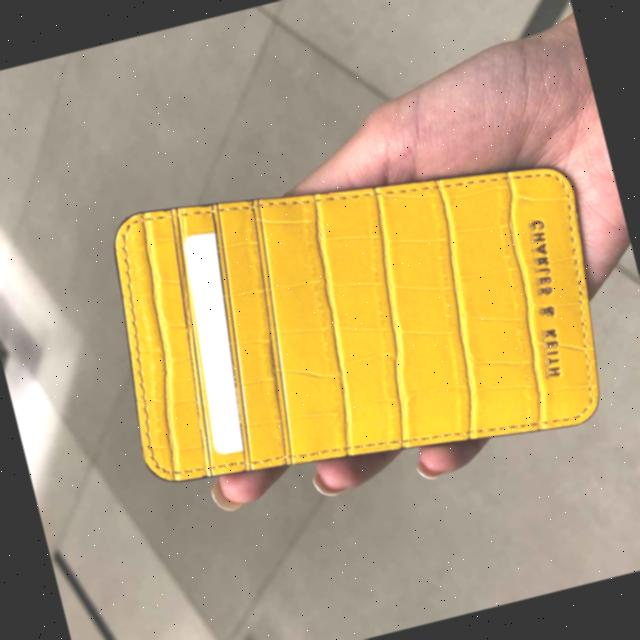Handbag: (81, 107, 626, 528)
